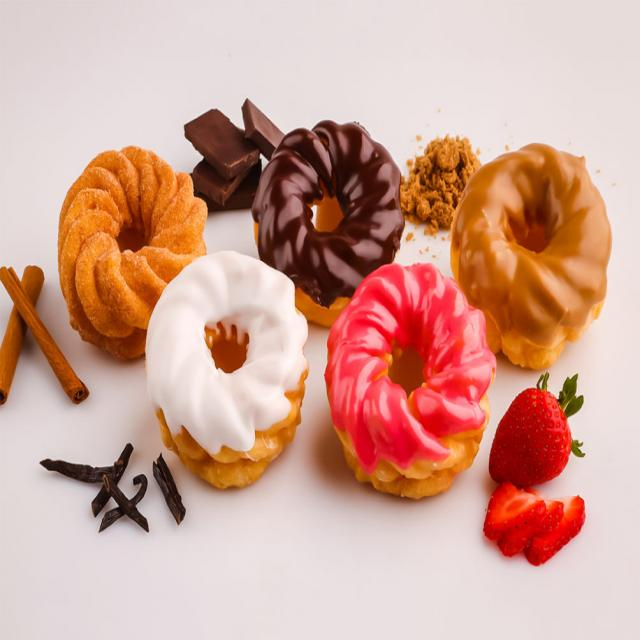donut: (322, 266, 497, 504), (146, 253, 312, 497), (448, 140, 613, 371), (58, 145, 207, 363), (253, 118, 408, 325)
